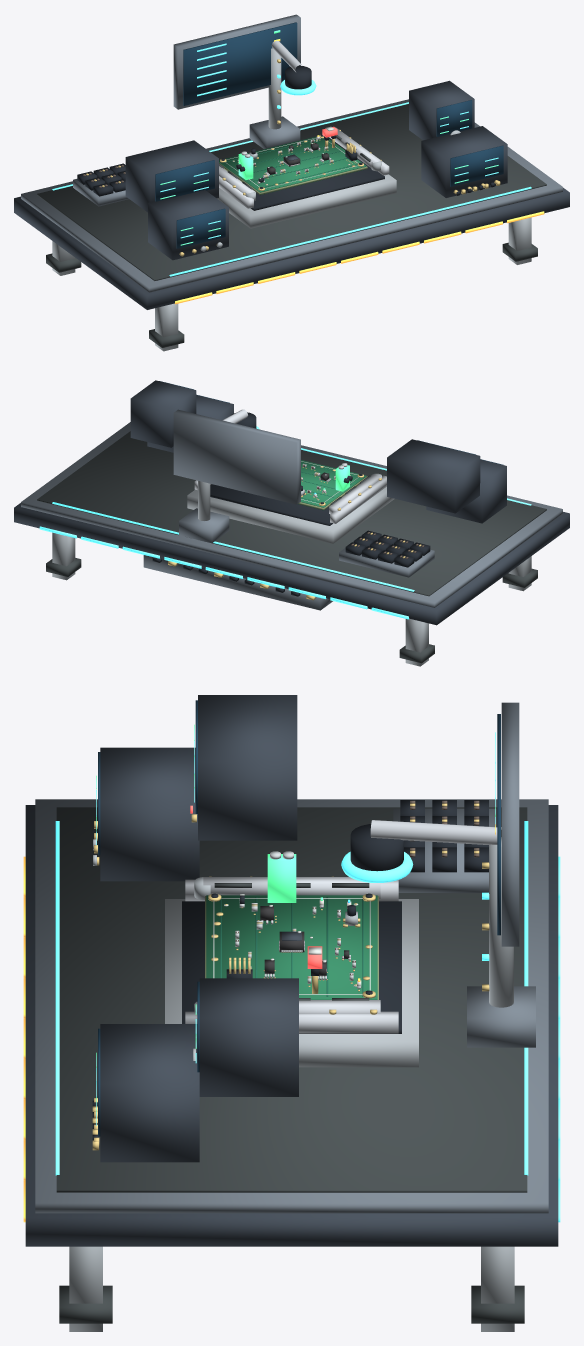
The model's file is L94_BoardFoundry_CompleteShowcase.glb.
3 views of the same model, one above another, from view 1: azimuth 30°, elevation 25°; view 2: azimuth 150°, elevation 25°; view 3: azimuth 270°, elevation 25° (orthographic). The views are drawn at different scales.
Parts seen in each view (by area): view 1: L94_AntiStaticWorkSurface, L94_AssemblyBenchFrame, L94_PCBAssemblySCADAPanel, L94_PrecisionFixtureBase, L94_FourChannelLogicAnalyzer, L94_BenchOscilloscope, L94_ProtectedBenchPowerSupply, L94_TopGreenSoldermask, L94_BenchDigitalMultimeter, L94_InspectionMicroscopeArm, L94_ComponentRepairTray, L94_MicroscopeLensAndRingLigh_Part_0000 (+2 smaller); view 2: L94_AntiStaticWorkSurface, L94_AssemblyBenchFrame, L94_PCBAssemblySCADAPanel, L94_PrecisionFixtureBase, L94_BenchOscilloscope, L94_BenchDigitalMultimeter, L94_ComponentRepairTray, L94_ProtectedBenchPowerSupply, L94_InspectionMicroscopeArm, L94_TopGreenSoldermask, L94_FourChannelLogicAnalyzer, L94_FixtureClampLeft_Part_0000; view 3: L94_AntiStaticWorkSurface, L94_AssemblyBenchFrame, L94_PrecisionFixtureBase, L94_BenchOscilloscope, L94_FourChannelLogicAnalyzer, L94_ProtectedBenchPowerSupply, L94_TopGreenSoldermask, L94_BenchDigitalMultimeter, L94_InspectionMicroscopeArm, L94_ComponentRepairTray, L94_PCBAssemblySCADAPanel, L94_InspectionMicroscopeArm_Part_0002 (+5 smaller).
Part boxes in pixels (left/top/right/bottom): L94_AntiStaticWorkSurface: left=21, top=99, right=562, bottom=292; L94_AssemblyBenchFrame: left=14, top=187, right=569, bottom=351; L94_PCBAssemblySCADAPanel: left=173, top=14, right=300, bottom=109; L94_PrecisionFixtureBase: left=217, top=127, right=396, bottom=228; L94_FourChannelLogicAnalyzer: left=421, top=126, right=507, bottom=197; L94_BenchOscilloscope: left=125, top=140, right=218, bottom=212; L94_ProtectedBenchPowerSupply: left=148, top=190, right=228, bottom=260; L94_TopGreenSoldermask: left=219, top=136, right=366, bottom=192; L94_BenchDigitalMultimeter: left=409, top=80, right=474, bottom=140; L94_InspectionMicroscopeArm: left=249, top=48, right=300, bottom=149; L94_ComponentRepairTray: left=73, top=163, right=128, bottom=206; L94_MicroscopeLensAndRingLigh_Part_0000: left=285, top=65, right=311, bottom=89; L94_AntiStaticWorkSurface: left=21, top=422, right=562, bottom=607; L94_AssemblyBenchFrame: left=14, top=503, right=569, bottom=666; L94_PCBAssemblySCADAPanel: left=173, top=409, right=300, bottom=504; L94_PrecisionFixtureBase: left=187, top=475, right=394, bottom=543; L94_BenchOscilloscope: left=387, top=439, right=480, bottom=513; L94_BenchDigitalMultimeter: left=130, top=380, right=196, bottom=447; L94_ComponentRepairTray: left=339, top=530, right=434, bottom=577; L94_ProtectedBenchPowerSupply: left=426, top=459, right=506, bottom=523; L94_InspectionMicroscopeArm: left=179, top=481, right=229, bottom=543; L94_TopGreenSoldermask: left=300, top=460, right=366, bottom=507; L94_FourChannelLogicAnalyzer: left=147, top=394, right=233, bottom=452; L94_FixtureClampLeft_Part_0000: left=329, top=474, right=380, bottom=514; L94_AntiStaticWorkSurface: left=35, top=799, right=548, bottom=1213; L94_AssemblyBenchFrame: left=23, top=805, right=560, bottom=1331; L94_PrecisionFixtureBase: left=165, top=876, right=418, bottom=1067; L94_BenchOscilloscope: left=190, top=695, right=297, bottom=840; L94_FourChannelLogicAnalyzer: left=92, top=1024, right=199, bottom=1162; L94_ProtectedBenchPowerSupply: left=94, top=747, right=199, bottom=881; L94_TopGreenSoldermask: left=206, top=895, right=377, bottom=999; L94_BenchDigitalMultimeter: left=195, top=978, right=298, bottom=1096; L94_InspectionMicroscopeArm: left=467, top=837, right=535, bottom=1047; L94_ComponentRepairTray: left=393, top=800, right=496, bottom=892; L94_PCBAssemblySCADAPanel: left=495, top=702, right=519, bottom=946; L94_InspectionMicroscopeArm_Part_0002: left=370, top=820, right=501, bottom=845.
Bounding box in the file's own units: 5.5 × 2.42 × 3.02.
